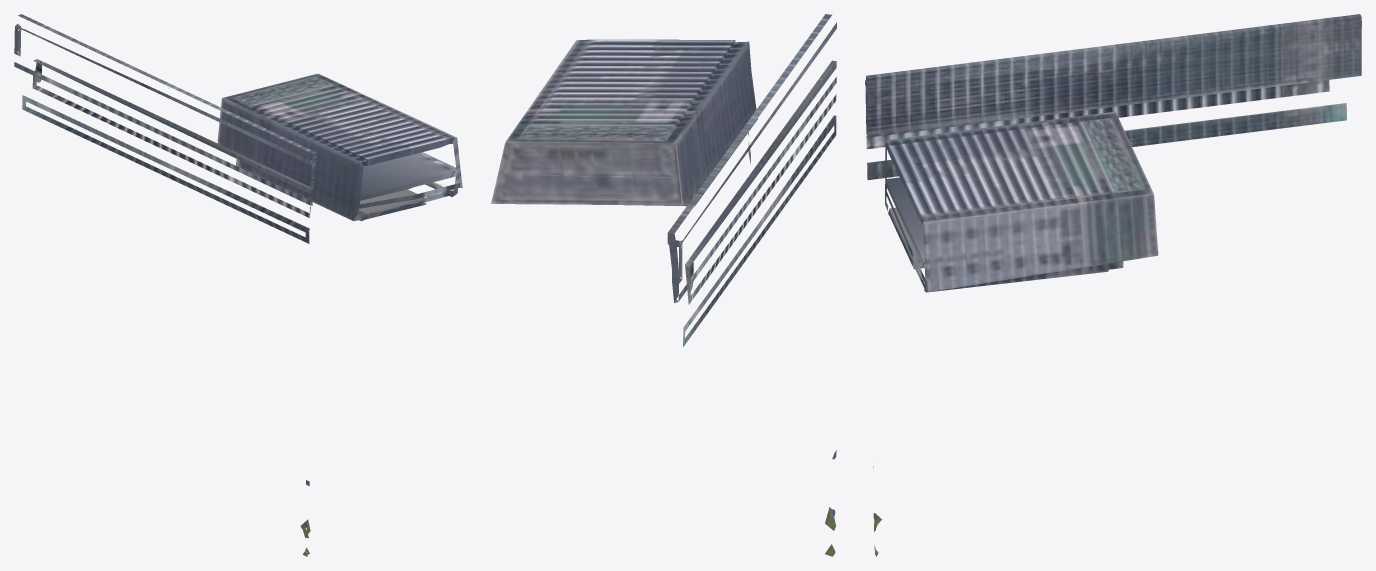
Rendered from tile_158.glb.
3 renders of one model, left to right at view 1: azimuth 30°, elevation 25°; view 2: azimuth 150°, elevation 25°; view 3: azimuth 270°, elevation 25°, orthographic. The views are drawn at different scales.
Bounding box in the file's own units: 105 × 155 × 142.
1 material, 1 textured.
